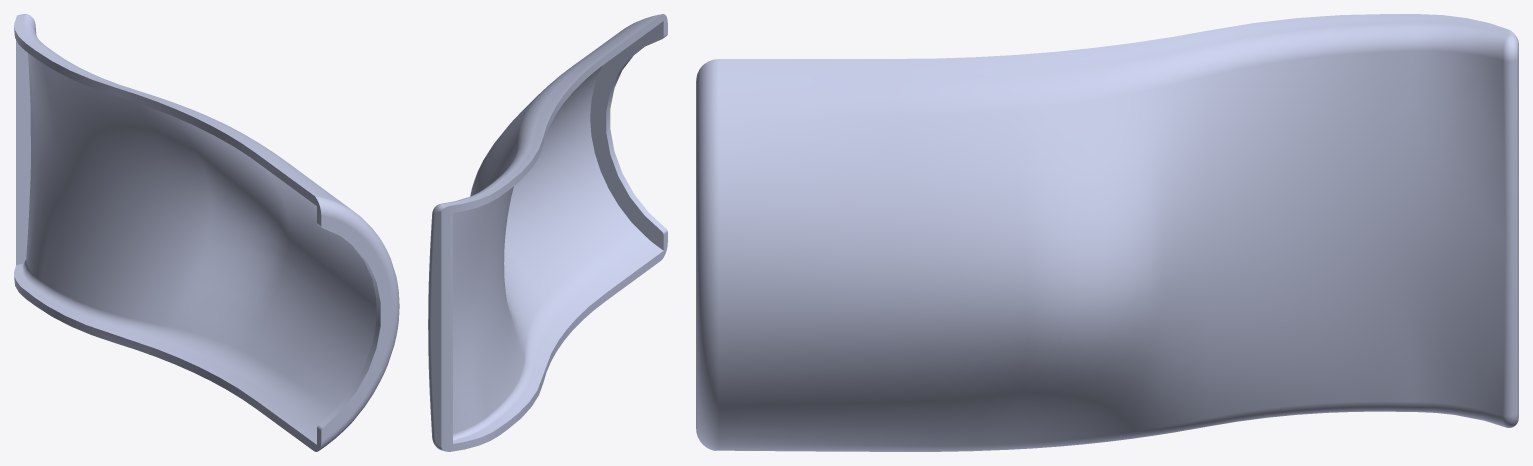
3 renders of one model, left to right at view 1: azimuth 30°, elevation 25°; view 2: azimuth 150°, elevation 25°; view 3: azimuth 270°, elevation 25°, orthographic. The views are drawn at different scales.
Visible parts, largest first — view 1: Body1; view 2: Body1; view 3: Body1.
Boxes of the visible parts, x1,y1,x2,y2 form: Body1: (14,14,399,451); Body1: (428,14,667,451); Body1: (696,14,1518,451).
Size of the model in its own units: 0.0383 by 0.065 by 0.1237.
